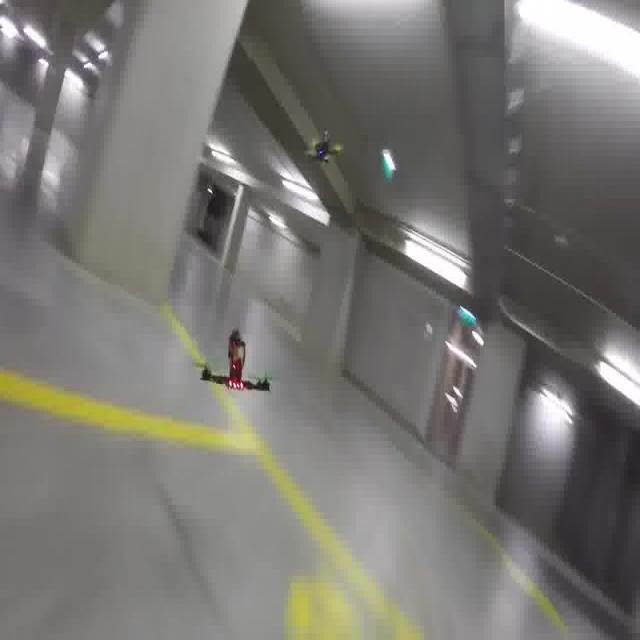drone: (188, 320, 283, 399), (307, 128, 346, 166)
